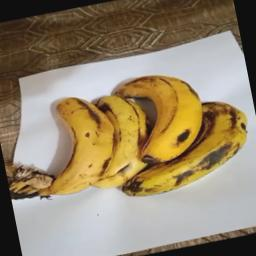Banana Unripe: (30, 78, 123, 202), (114, 64, 216, 174), (88, 78, 165, 196)
